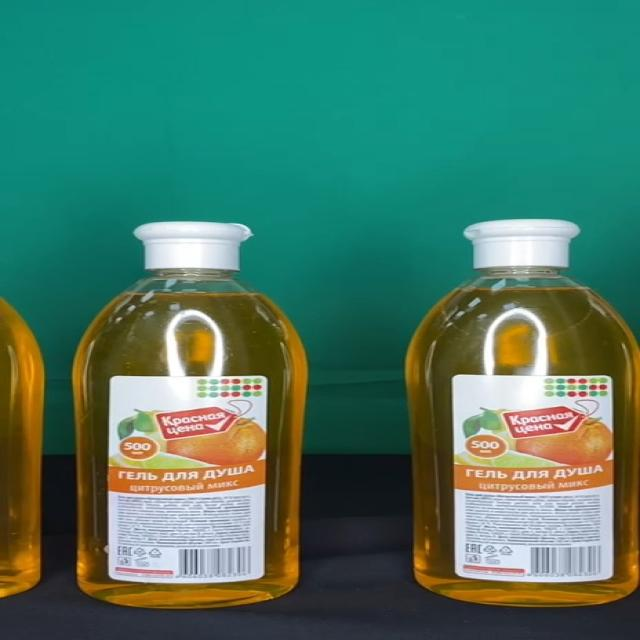Bottle: (405, 219, 640, 606), (72, 223, 307, 609)
Cap: (133, 223, 254, 272), (464, 220, 582, 268)
